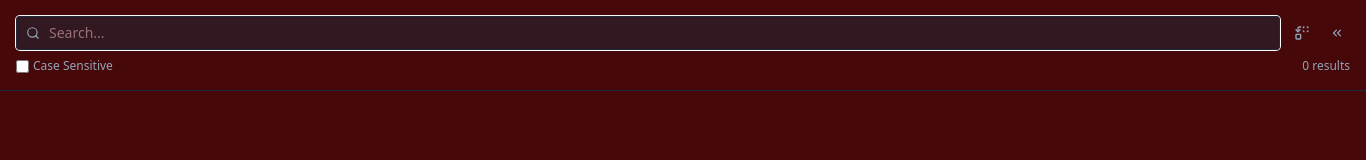
Test case: SearchPanel › should show error message on search failure
In the field with placeholder "Search...": (648, 33) [16,16,1280,50], type "test"
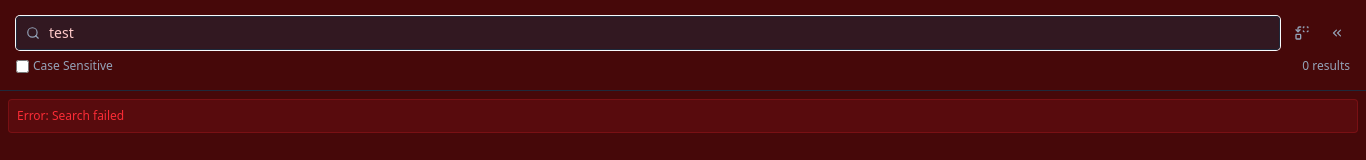
Now the text "Error: Search failed" is shown, box [8,99,1358,133]
